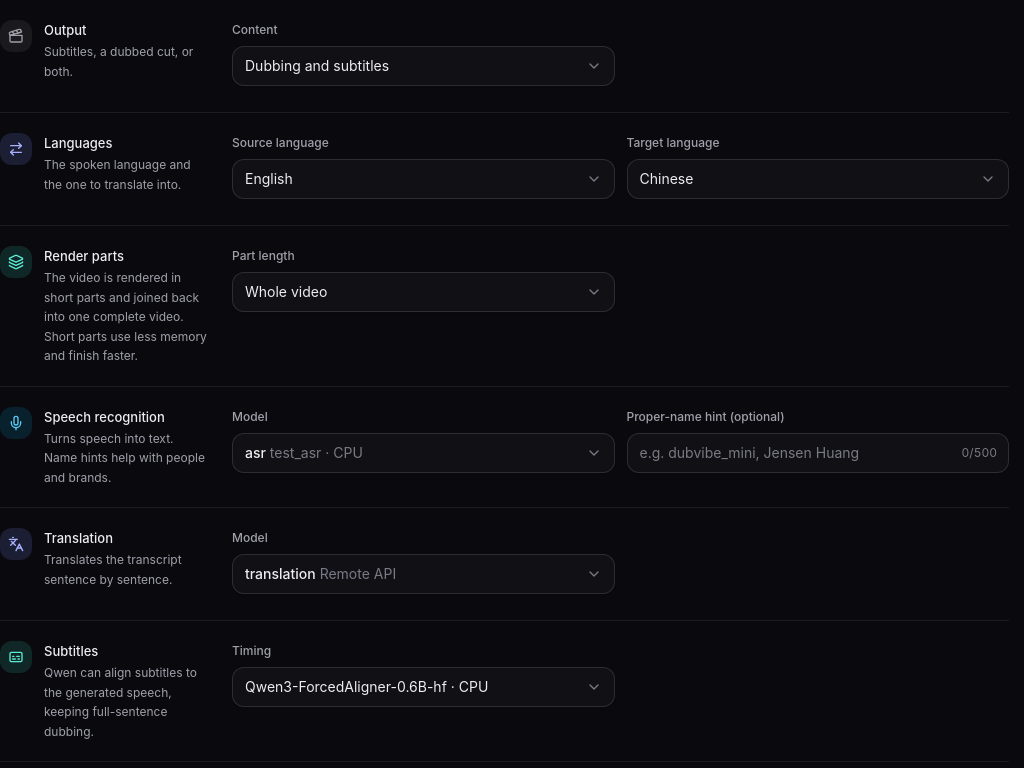
Scenario: 本地化任务配置 › 保存的字幕时间选择保持原值，目标语言不支持时显式提示
Expected: the dropdown named "Subtitle Timing" reads "Qwen3-ForcedAligner-0.6B-hf · CPU", top-left (232, 667), bottom-right (614, 707)
Click the dropdown named "Target language" at (666, 178), box top-left (626, 159), bottom-right (1009, 199)
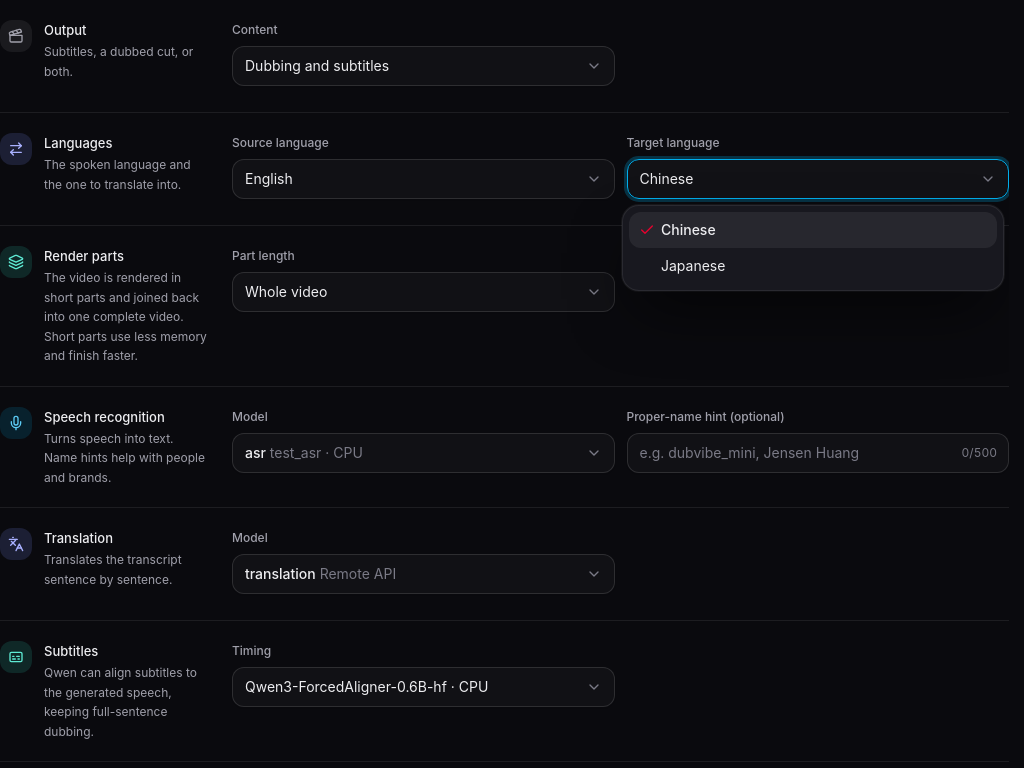
Click the option "Japanese" at (693, 266), box top-left (661, 257), bottom-right (725, 274)
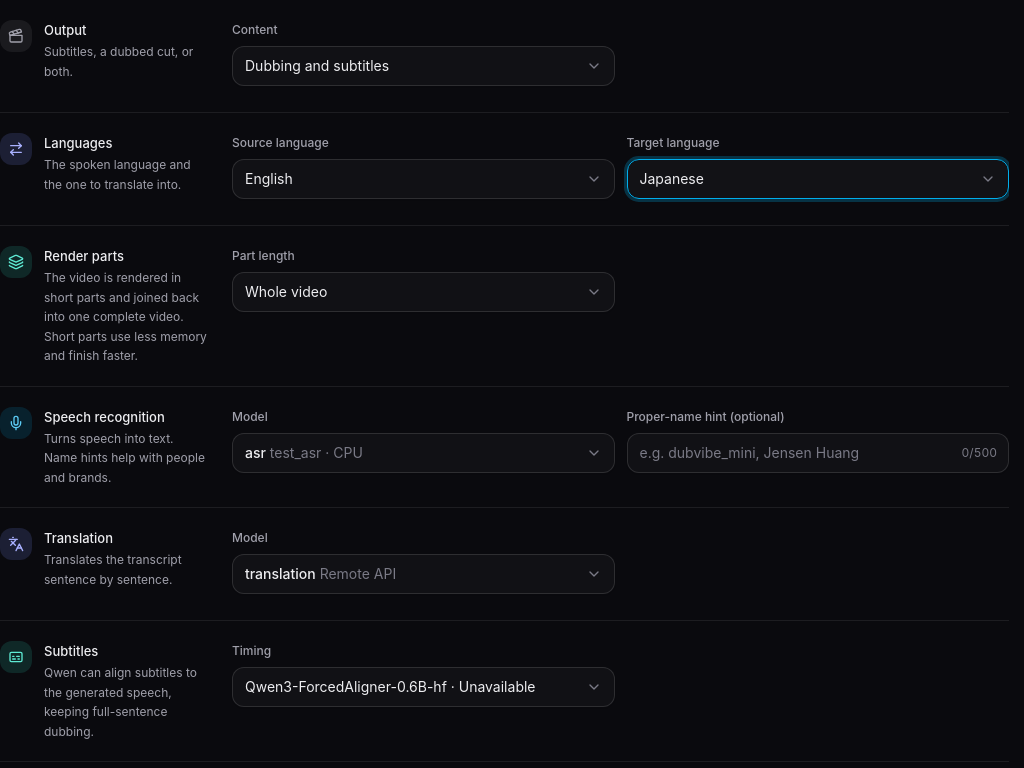
Expected: the dropdown named "Subtitle Timing" reads "Qwen3-ForcedAligner-0.6B-hf · Unavailable", top-left (232, 667), bottom-right (614, 707)
